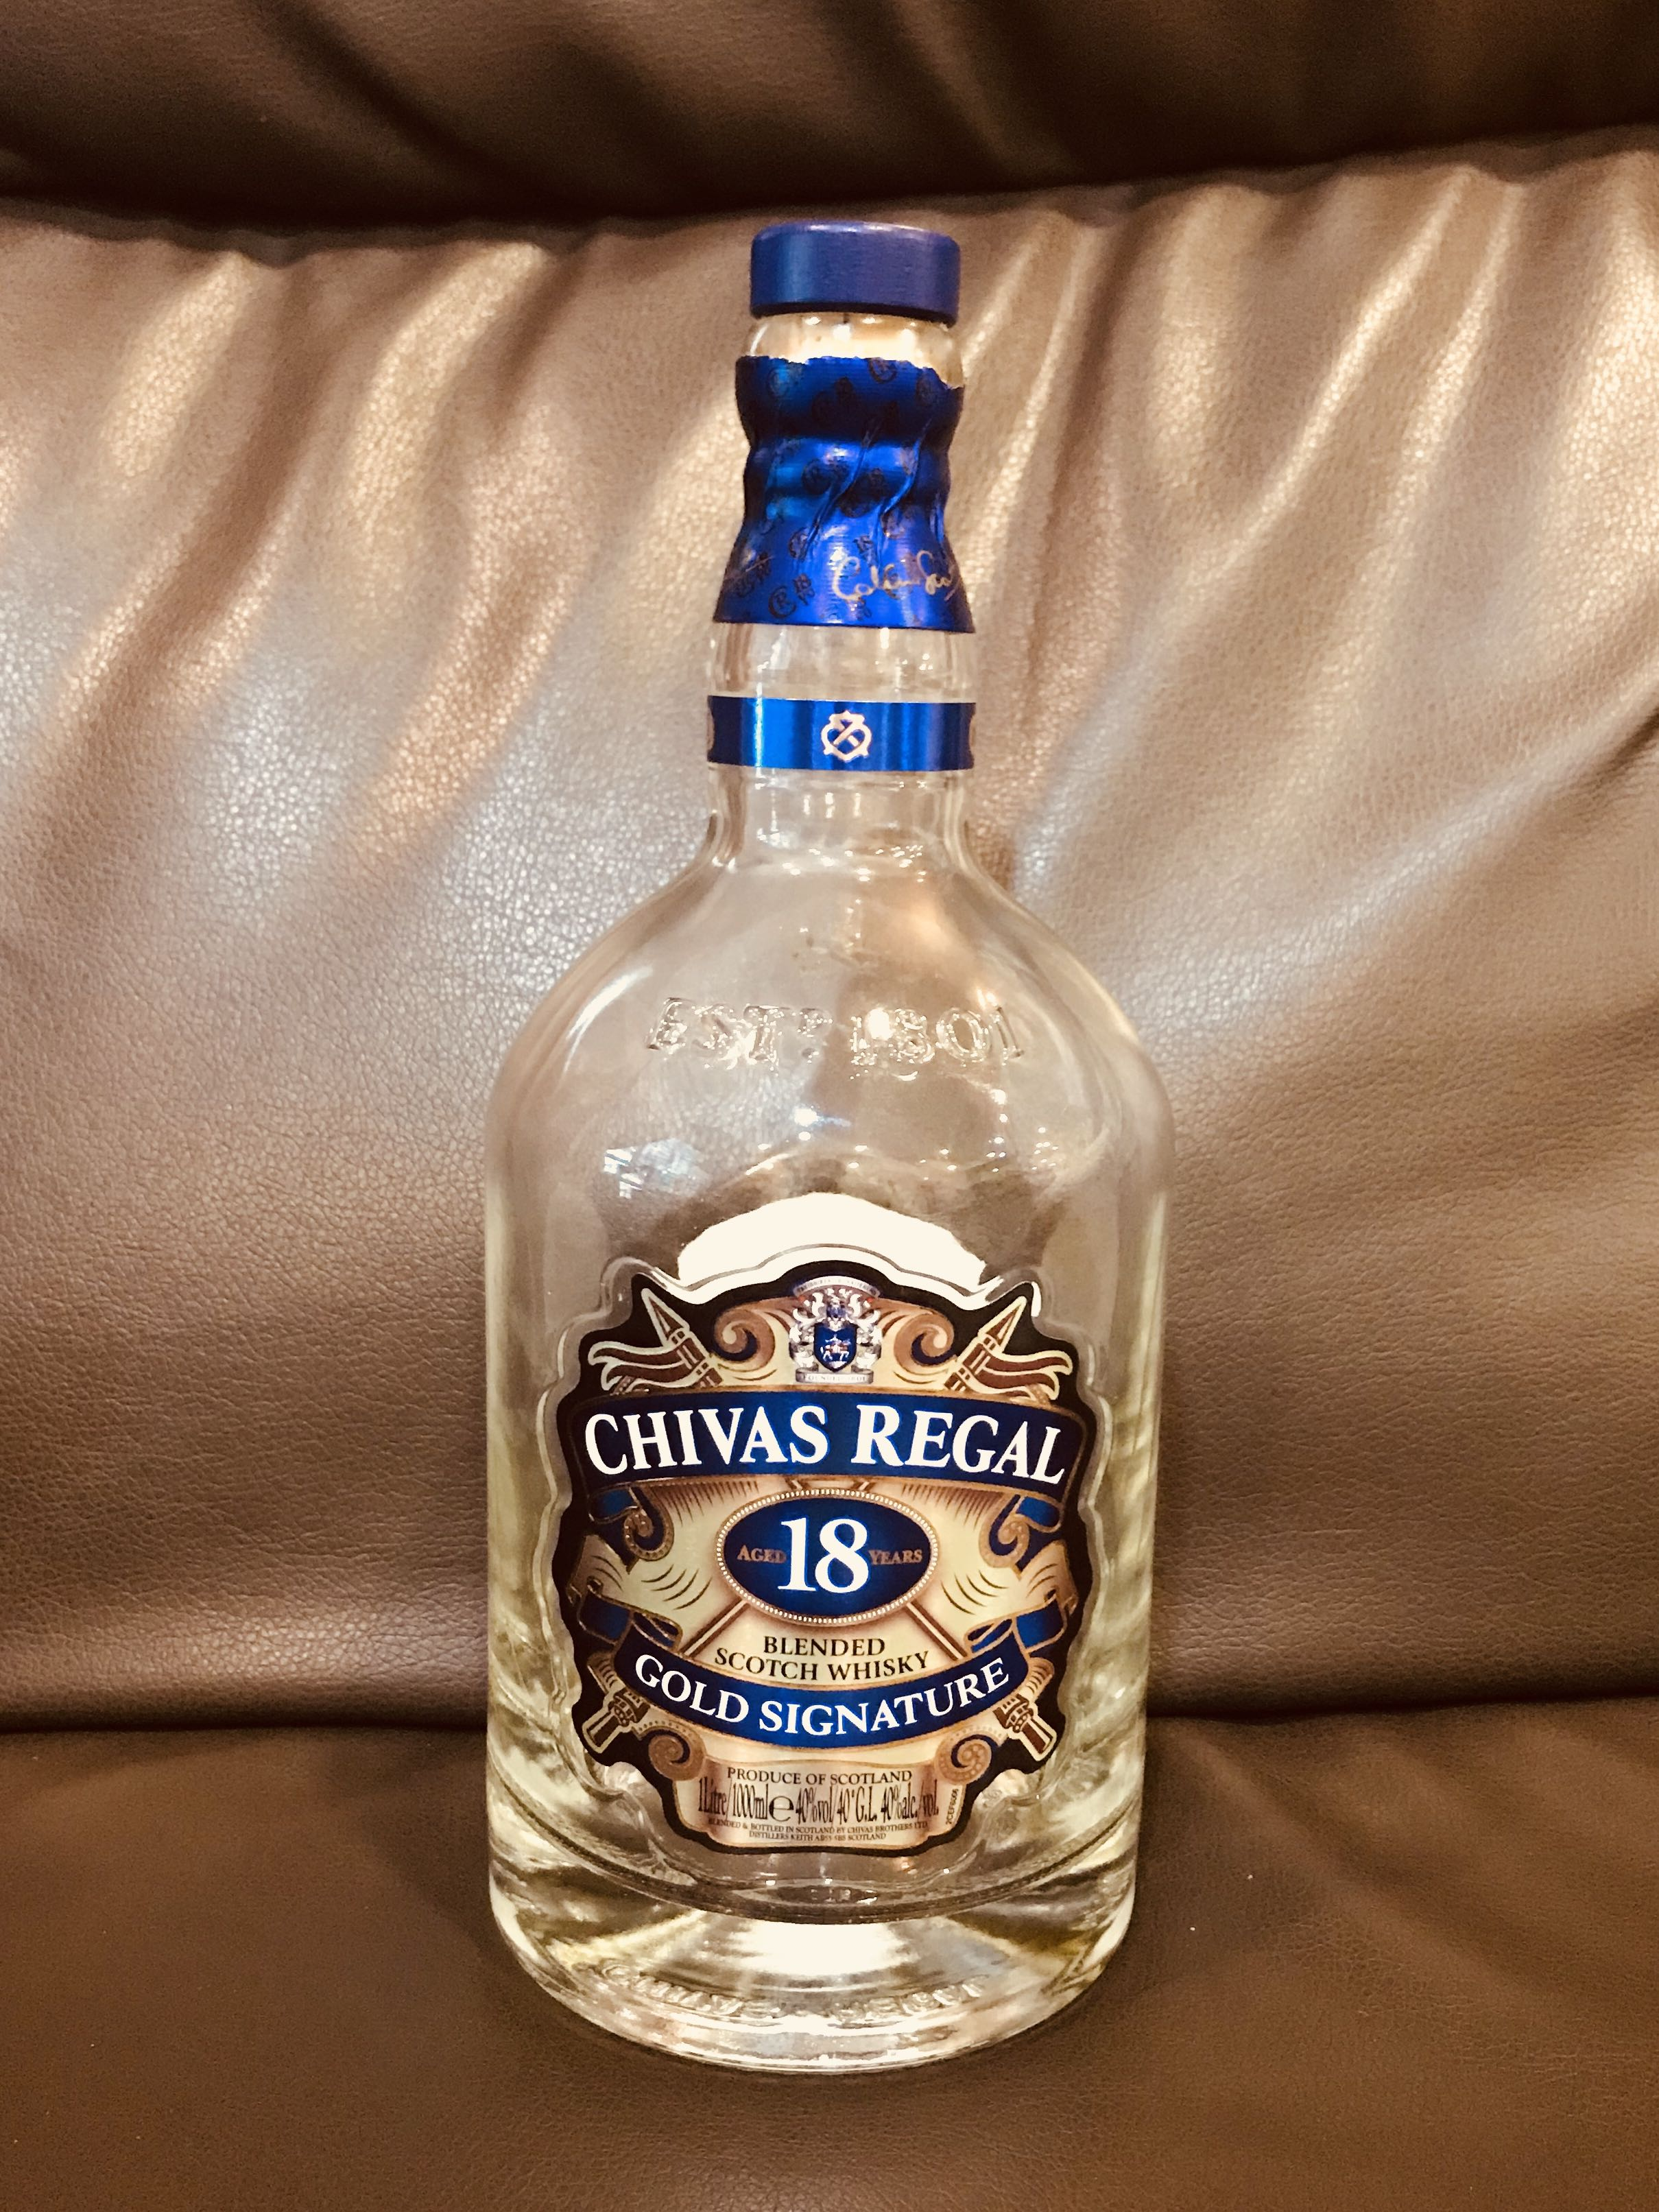Chivas Regal: (448, 207, 1192, 2102)
